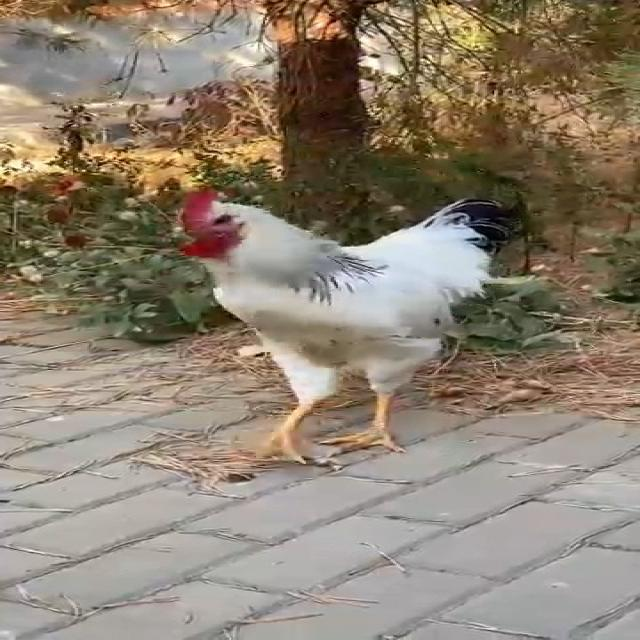walking: (160, 196, 526, 464)
